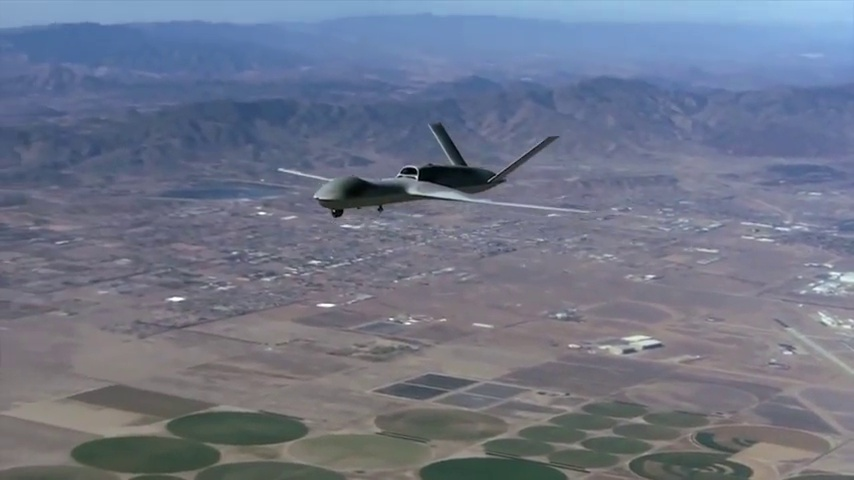military drone: (276, 121, 594, 217)
